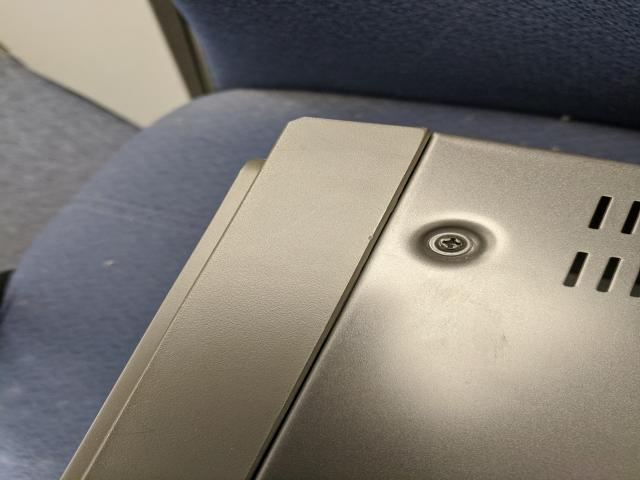CRS: (437, 234, 469, 254)
